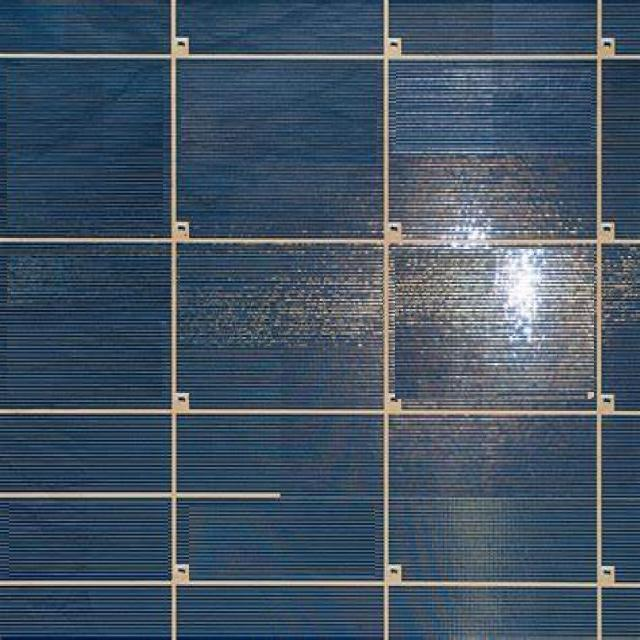Electrical-damage: (395, 250, 594, 400), (180, 254, 383, 348), (394, 424, 592, 486), (7, 256, 170, 306)
